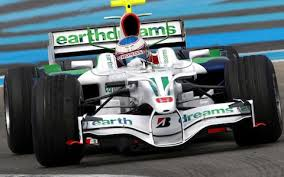FormulaOneCar: (1, 1, 284, 164)
